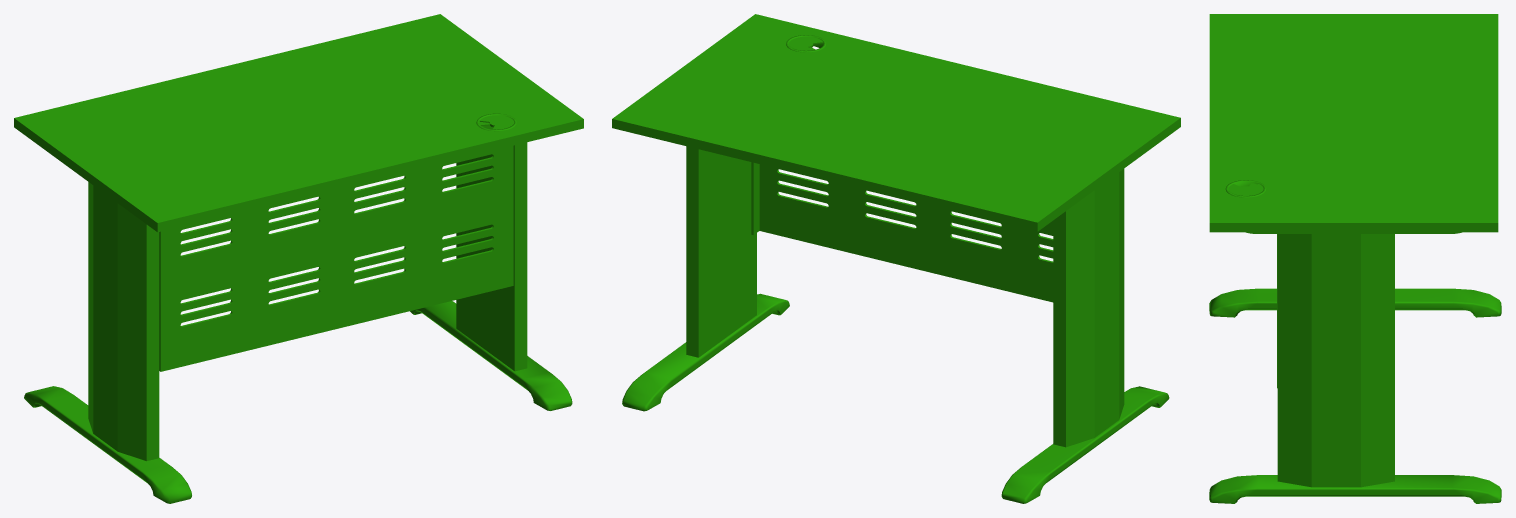
Rendered from TableMid.fbx.
3 views of the same model, side by side, from view 1: azimuth 30°, elevation 25°; view 2: azimuth 150°, elevation 25°; view 3: azimuth 270°, elevation 25° (orthographic).
Parts seen in each view (by area): view 1: Middle_board_low, Middle_cover_low, Middle_legs_low, Middle_stands_low; view 2: Middle_board_low, Middle_legs_low, Middle_cover_low, Middle_stands_low; view 3: Middle_board_low, Middle_legs_low, Middle_stands_low, Medium_hole_low, Middle_bars_low.
Boxes of the visible parts, bbox=[...] form: Middle_board_low: bbox=[14, 14, 583, 232]; Middle_cover_low: bbox=[159, 125, 513, 371]; Middle_legs_low: bbox=[88, 142, 527, 461]; Middle_stands_low: bbox=[24, 301, 572, 503]; Middle_board_low: bbox=[612, 14, 1180, 231]; Middle_legs_low: bbox=[686, 146, 1124, 447]; Middle_cover_low: bbox=[751, 162, 1053, 302]; Middle_stands_low: bbox=[622, 293, 1169, 503]; Middle_board_low: bbox=[1209, 14, 1498, 232]; Middle_legs_low: bbox=[1277, 234, 1394, 487]; Middle_stands_low: bbox=[1209, 288, 1501, 503]; Medium_hole_low: bbox=[1225, 180, 1266, 197]; Middle_bars_low: bbox=[1246, 232, 1461, 233].
Size of the model in its own units: 120 by 70.89 by 76.6.
